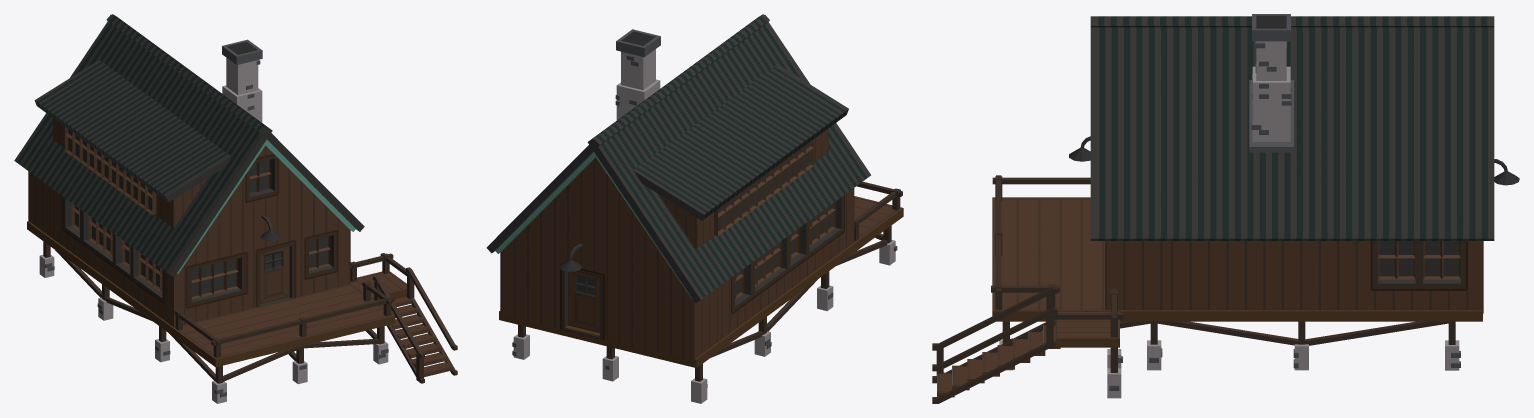
The picture shows the model from 3 angles, left to right: view 1: azimuth 30°, elevation 25°; view 2: azimuth 150°, elevation 25°; view 3: azimuth 270°, elevation 25°; orthographic projection. The views are drawn at different scales.
Parts seen in each view (by area): view 1: Cabin, Door_1; view 2: Cabin, Door_2; view 3: Cabin.
Part boxes in pixels (x1=…): Cabin: x1=14, y1=14, x2=457, y2=403; Door_1: x1=260, y1=246, x2=289, y2=303; Cabin: x1=486, y1=14, x2=903, y2=403; Door_2: x1=568, y1=271, x2=599, y2=332; Cabin: x1=932, y1=14, x2=1519, y2=403.
Bounding box in the file's own units: 920 × 955 × 1550.
1 material, 1 textured.
